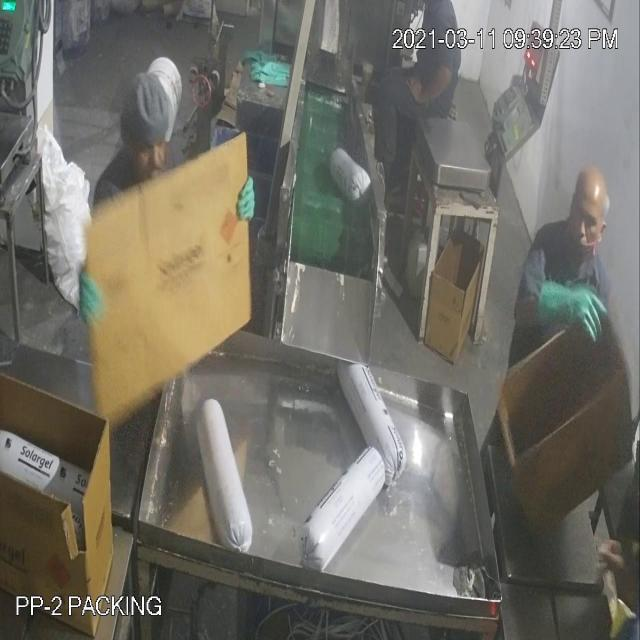Gloves: (62, 44, 572, 309)
